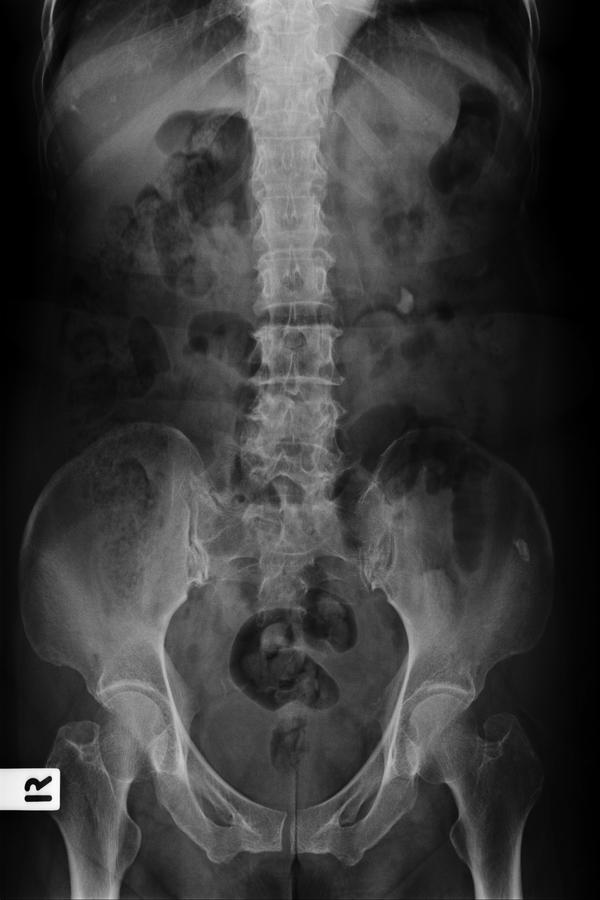lumbar scoliosis: (234, 226, 347, 523)
